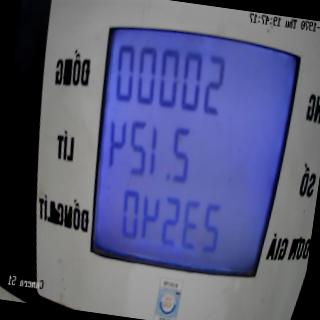screen: (71, 0, 307, 292)
